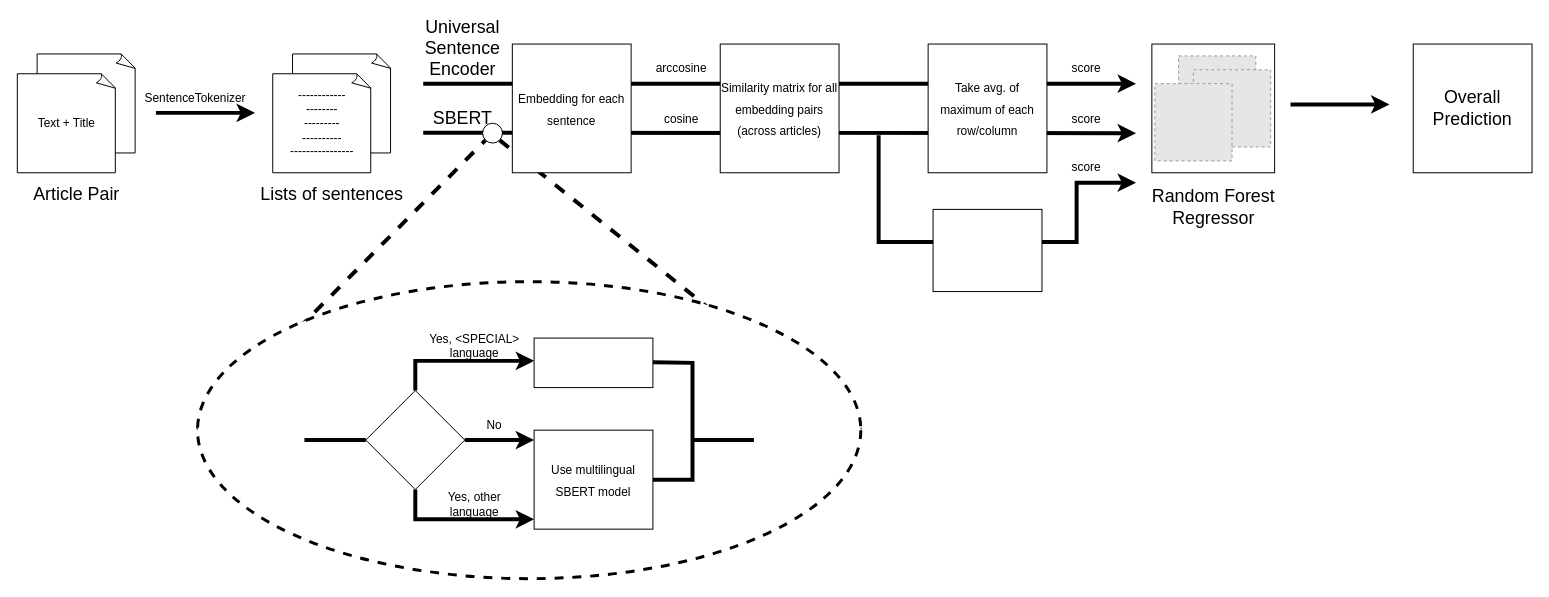
Image size: 1549x597. Some labels were removed from this diagram. Grey dashed boxes stand in for pictures. The centre of each missing label's shape, as x and y in pixels:
"Process with pre-trained TextCNN" goes at point (987, 250).
"Same Language Pair?" goes at point (415, 440).
"Use specialized SBERT model" goes at point (593, 362).
